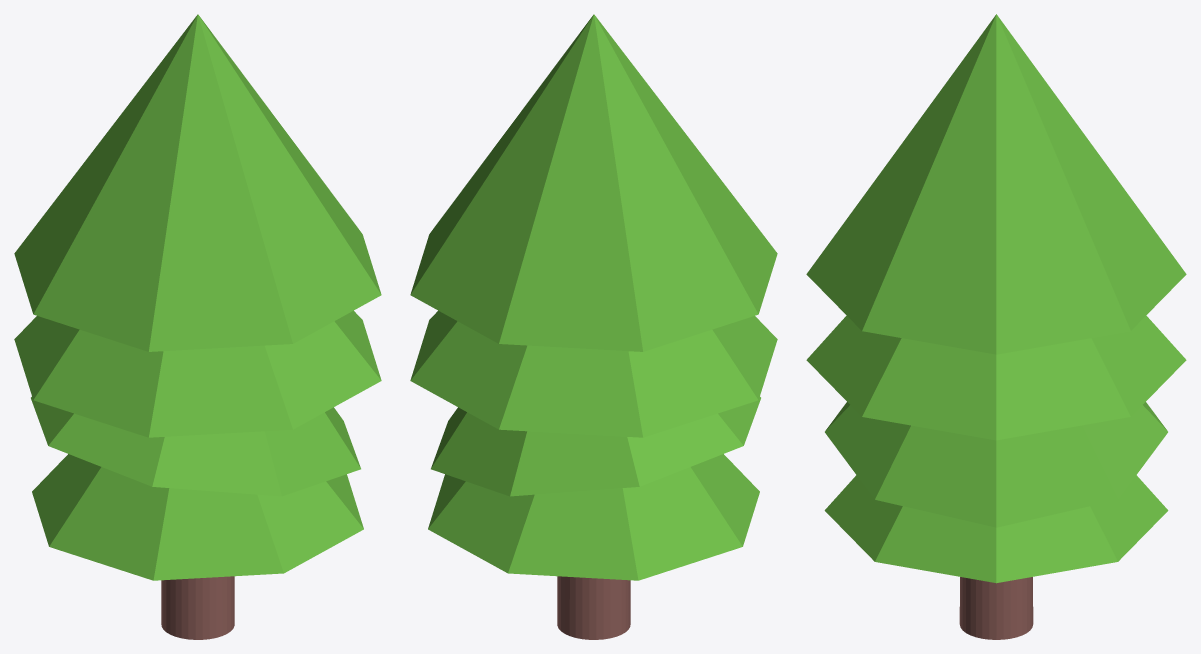
Rendered from tree-type-D.fbx.
The picture shows the model from 3 angles, left to right: view 1: azimuth 30°, elevation 25°; view 2: azimuth 150°, elevation 25°; view 3: azimuth 270°, elevation 25°; orthographic projection.
Parts seen in each view (by area): view 1: 1.4 tree-type-D; view 2: 1.4 tree-type-D; view 3: 1.4 tree-type-D.
Boxes of the visible parts, x1,y1,x2,y2 form: 1.4 tree-type-D: (14,14,381,639); 1.4 tree-type-D: (410,14,777,639); 1.4 tree-type-D: (806,14,1186,639).
Bounding box in the file's own units: 1.94 × 3.43 × 1.94.
